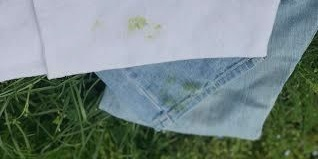earth: (128, 16, 160, 32), (163, 95, 184, 111), (184, 79, 202, 92)
